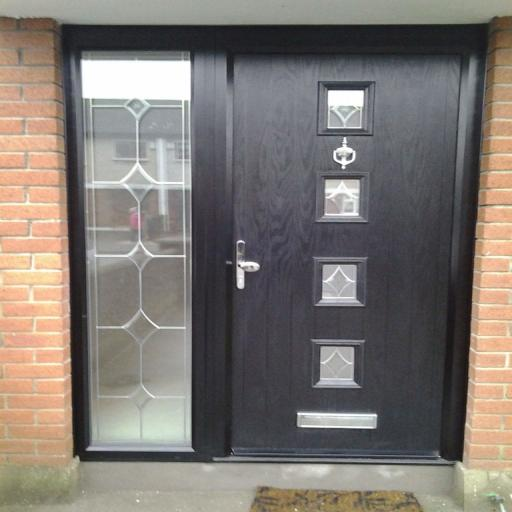Door: (227, 52, 462, 458)
